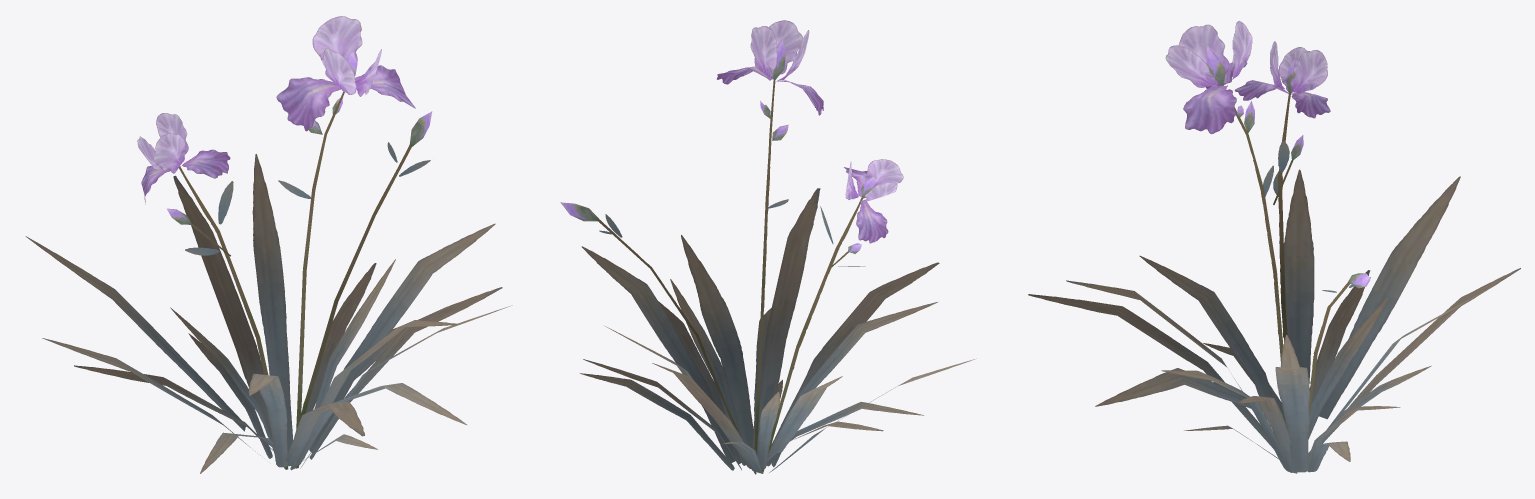
The model's file is SM_Com_Veg_01AS.fbx.
3 views of the same model, side by side, from view 1: azimuth 30°, elevation 25°; view 2: azimuth 150°, elevation 25°; view 3: azimuth 270°, elevation 25° (orthographic). The views are drawn at different scales.
Parts seen in each view (by area): view 1: SM_Com_Veg_01AS.mo; view 2: SM_Com_Veg_01AS.mo; view 3: SM_Com_Veg_01AS.mo.
Boxes of the visible parts, left/top/right/bottom form: SM_Com_Veg_01AS.mo: left=25, top=16, right=512, bottom=473; SM_Com_Veg_01AS.mo: left=560, top=20, right=976, bottom=474; SM_Com_Veg_01AS.mo: left=1028, top=21, right=1520, bottom=473.
Size of the model in its own units: 0.9184 by 0.9105 by 0.8786.
